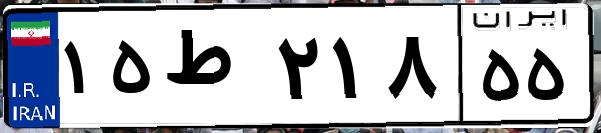1: (330, 28, 385, 110), (57, 26, 110, 100)
2: (270, 28, 330, 110)
5: (475, 38, 525, 113), (525, 38, 570, 115), (110, 28, 158, 98)
8: (385, 28, 445, 110)
ط: (158, 20, 270, 120)
